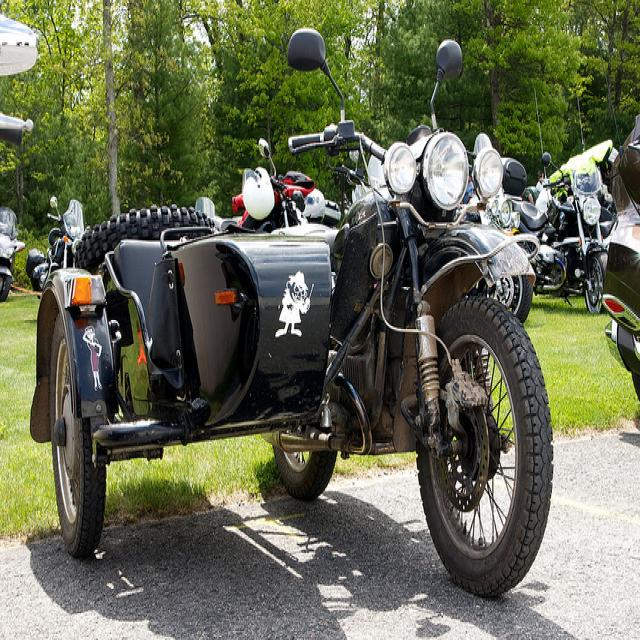motor: (29, 30, 556, 598), (509, 140, 616, 317), (466, 131, 532, 329), (601, 114, 640, 400), (231, 140, 314, 234), (24, 197, 84, 291), (0, 207, 28, 304)
